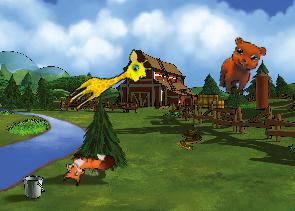bear: (216, 35, 268, 100)
fox: (61, 150, 115, 188)
giraffe: (64, 45, 155, 121)
